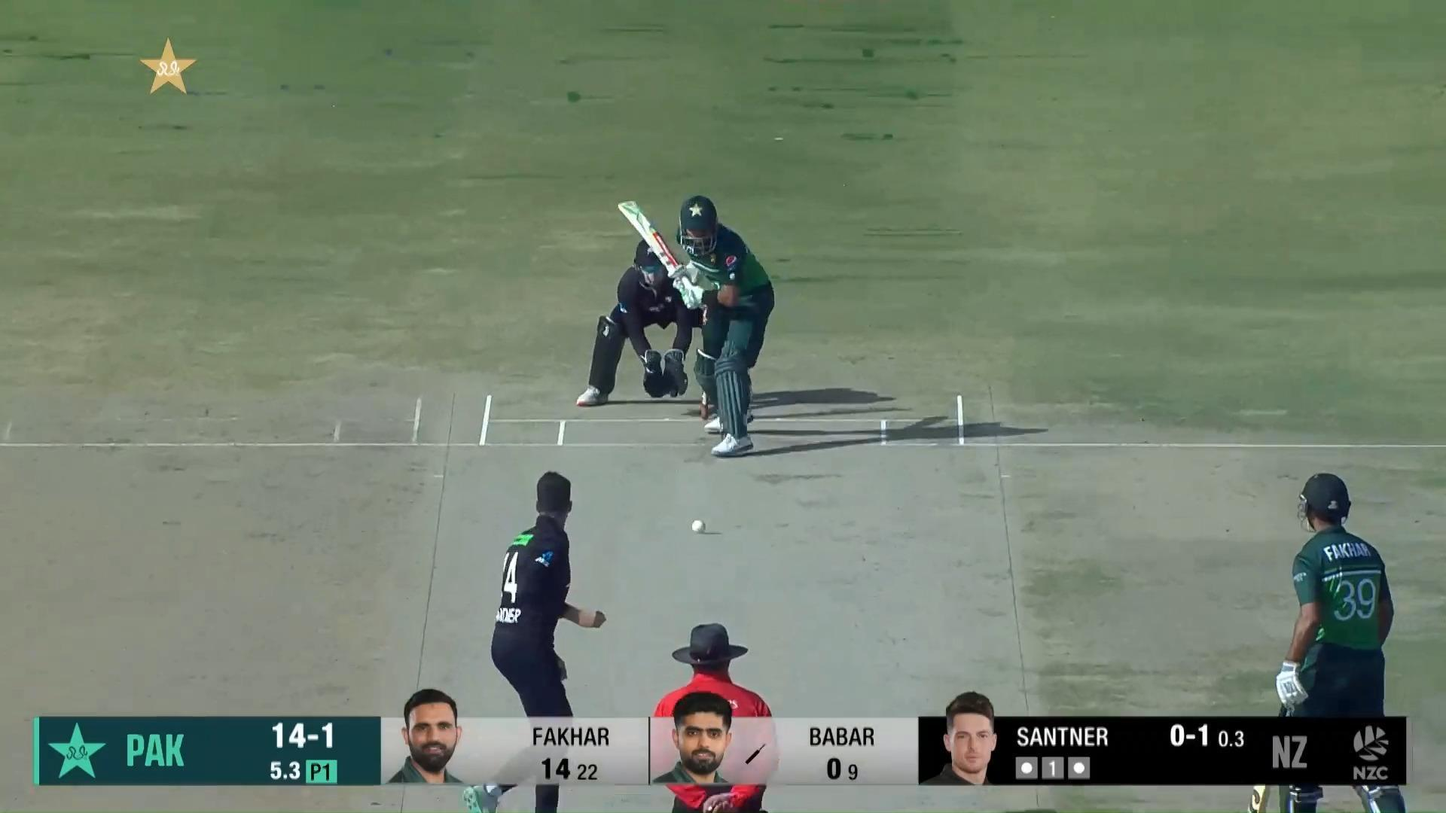BM 1: (615, 196, 775, 458)
BO: (461, 468, 609, 813)
